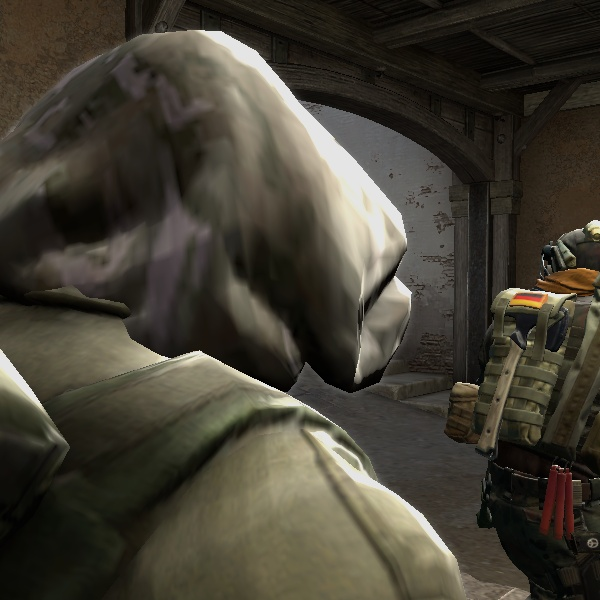ct_body: (414, 214, 595, 600)
ct_head: (532, 221, 598, 308)
